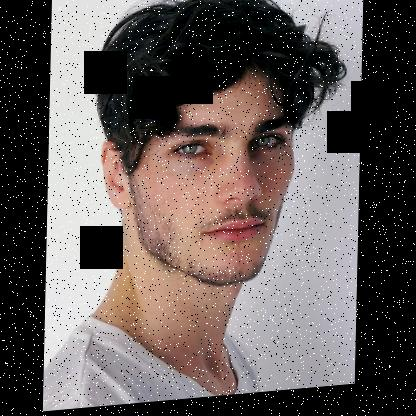Male: (102, 66, 297, 300)
